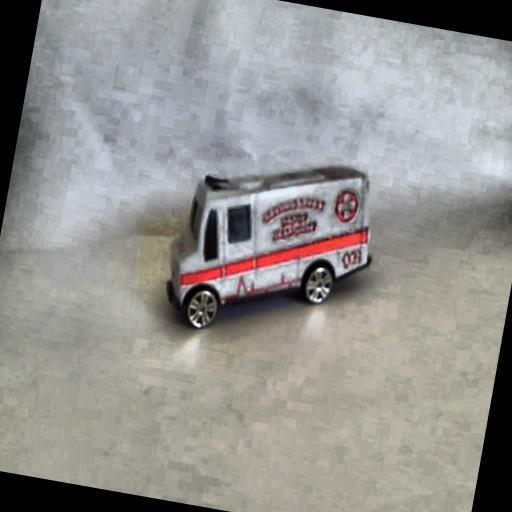ambulance: (157, 138, 386, 356)
